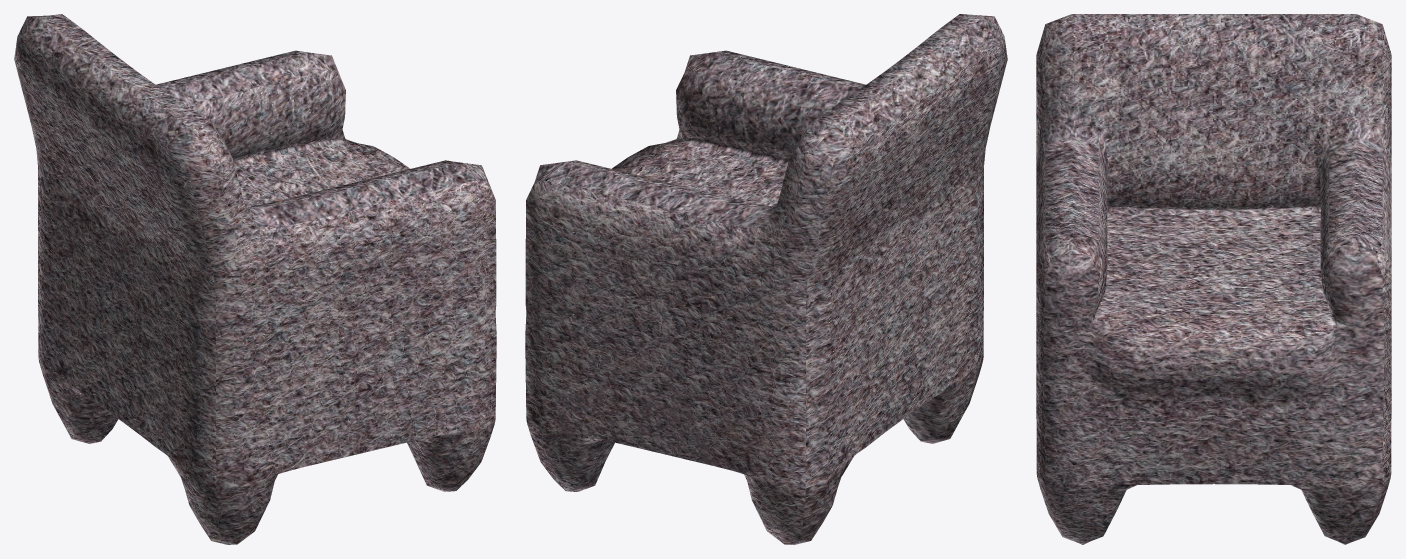
Rendered from Obj_vid_02_Sofa_doble_low_poly1.fbx.
The picture shows the model from 3 angles, left to right: view 1: azimuth 30°, elevation 25°; view 2: azimuth 150°, elevation 25°; view 3: azimuth 270°, elevation 25°; orthographic projection. The views are drawn at different scales.
Visible parts, largest first — view 1: Obj_vid_02_Sofa_doble_low_poly1; view 2: Obj_vid_02_Sofa_doble_low_poly1; view 3: Obj_vid_02_Sofa_doble_low_poly1.
Part boxes in pixels (x1,y1,x2,y2): Obj_vid_02_Sofa_doble_low_poly1: (14, 14, 496, 544); Obj_vid_02_Sofa_doble_low_poly1: (525, 14, 1007, 544); Obj_vid_02_Sofa_doble_low_poly1: (1036, 14, 1391, 544).
Size of the model in its own units: 1.05 by 1.27 by 1.
